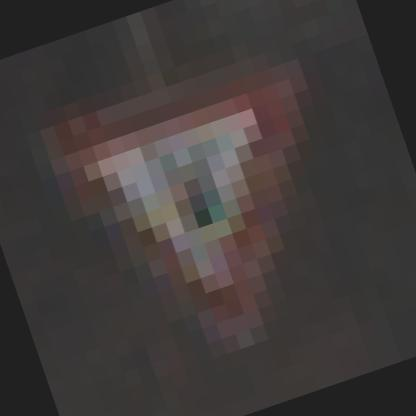crosswalk: (6, 0, 411, 397)
